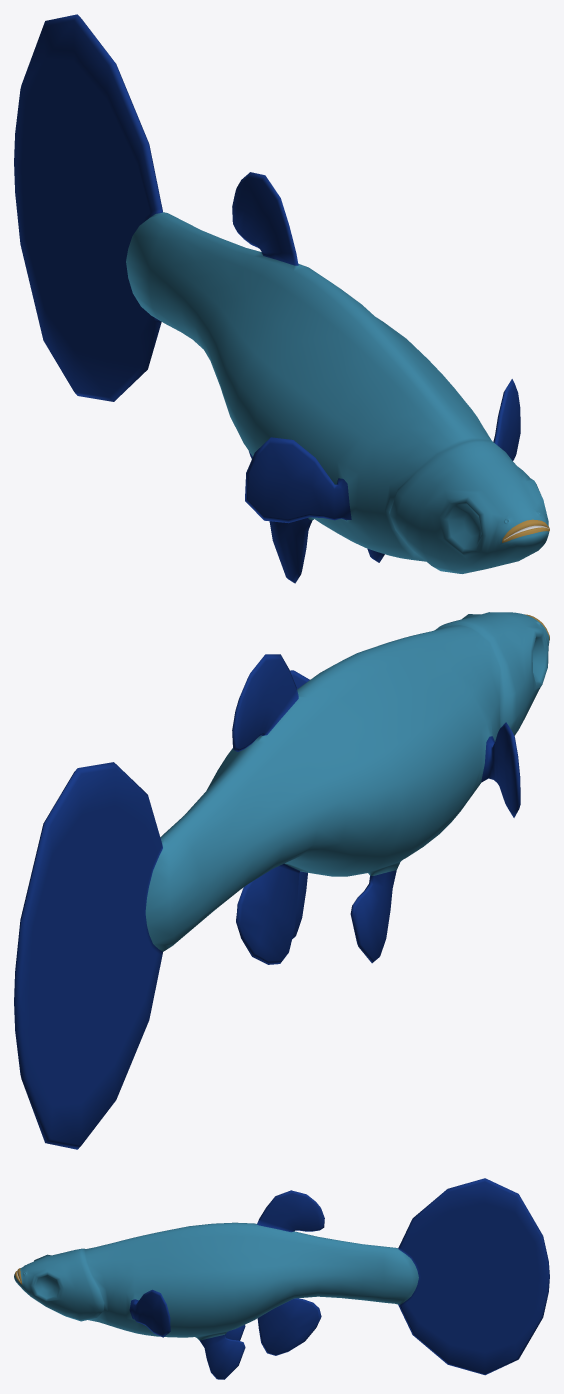
Rendered from guppy_guppy.obj.
The picture shows the model from 3 angles, top to bottom: view 1: azimuth 30°, elevation 25°; view 2: azimuth 150°, elevation 25°; view 3: azimuth 270°, elevation 25°; orthographic projection. The views are drawn at different scales.
Visible parts, largest first — view 1: guppy; view 2: guppy; view 3: guppy.
Part boxes in pixels (<box>): guppy: <box>14,14,549,583</box>; guppy: <box>14,612,549,1149</box>; guppy: <box>14,1178,549,1379</box>.
Bounding box in the file's own units: 0.0184 × 0.0244 × 0.0601.
